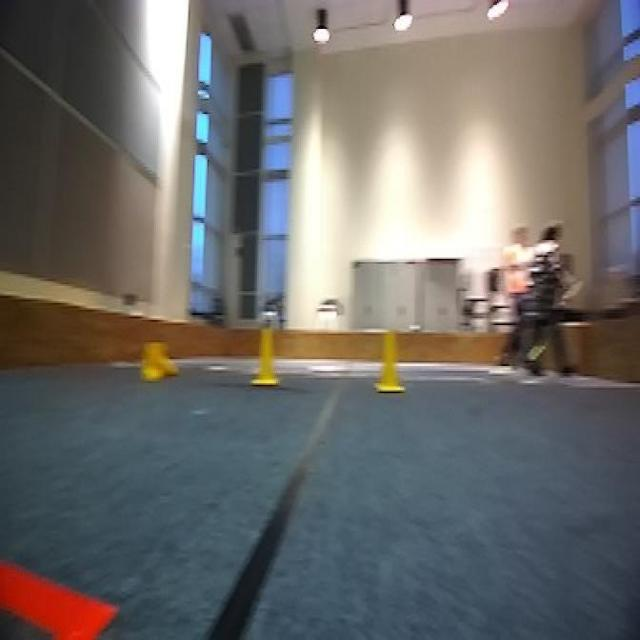frc_cone: (372, 328, 410, 395), (248, 323, 286, 388), (140, 341, 178, 382)
